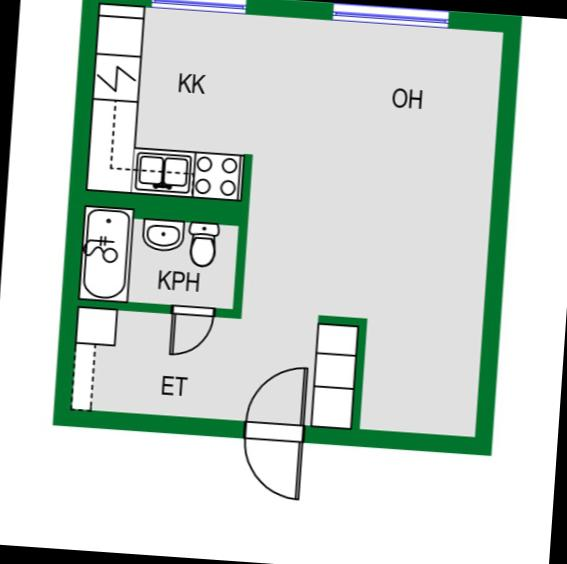door: (234, 418, 308, 506), (234, 360, 310, 442), (161, 303, 216, 359)
window: (325, 2, 457, 34), (144, 0, 256, 17)
